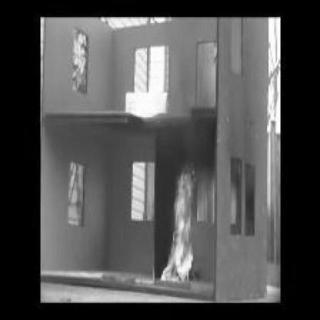Fire: (164, 167, 198, 284)
Smoke: (152, 103, 206, 161)
